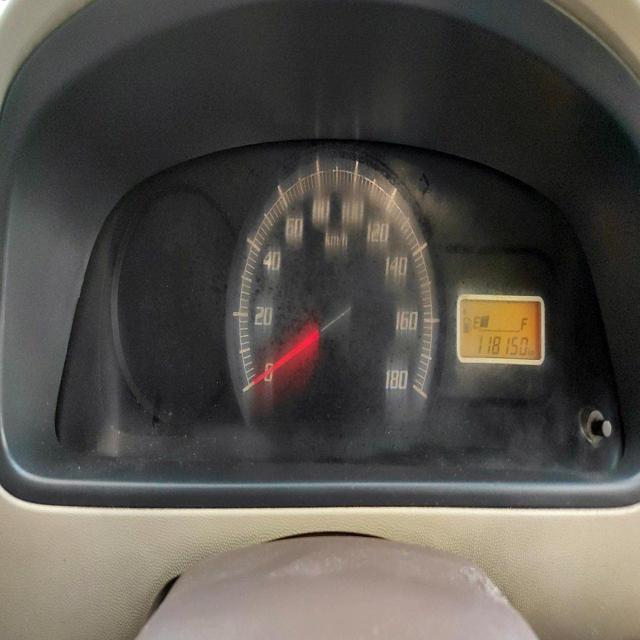odometer: (477, 332, 528, 358)
